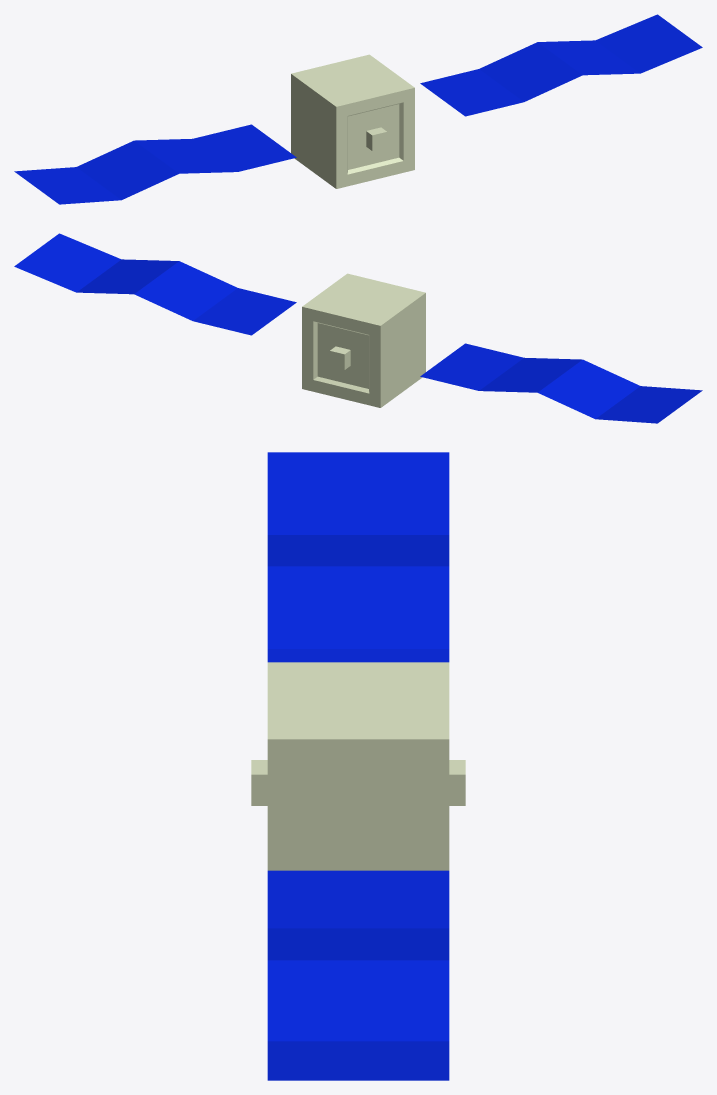
File: satelite2.glb
3 views of the same model, one above another, from view 1: azimuth 30°, elevation 25°; view 2: azimuth 150°, elevation 25°; view 3: azimuth 270°, elevation 25° (orthographic). The views are drawn at different scales.
Visible parts, largest first — view 1: Cube, Plane.002, Plane.001; view 2: Cube, Plane.002, Plane.001; view 3: Cube, Plane.001, Plane.002.
Part boxes in pixels (left/top/right/bottom): Cube: left=291, top=54, right=414, bottom=188; Plane.002: left=420, top=14, right=702, bottom=116; Plane.001: left=14, top=124, right=296, bottom=204; Cube: left=302, top=273, right=425, bottom=407; Plane.002: left=14, top=233, right=296, bottom=335; Plane.001: left=420, top=343, right=702, bottom=423; Cube: left=251, top=662, right=465, bottom=870; Plane.001: left=267, top=452, right=449, bottom=662; Plane.002: left=267, top=870, right=449, bottom=1080.
Size of the model in its own units: 5.49 by 0.6711 by 0.7916.
